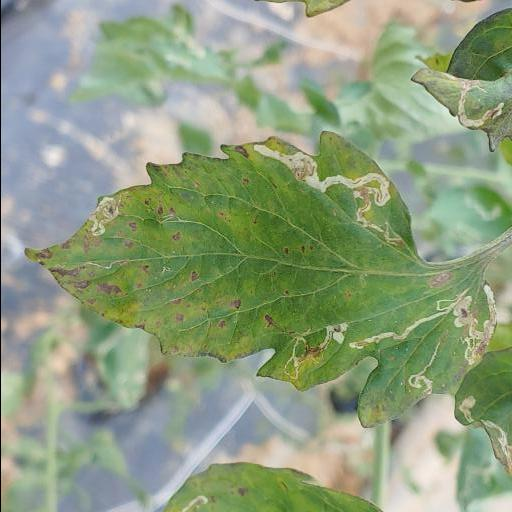disease_tomato: (21, 130, 499, 430)
